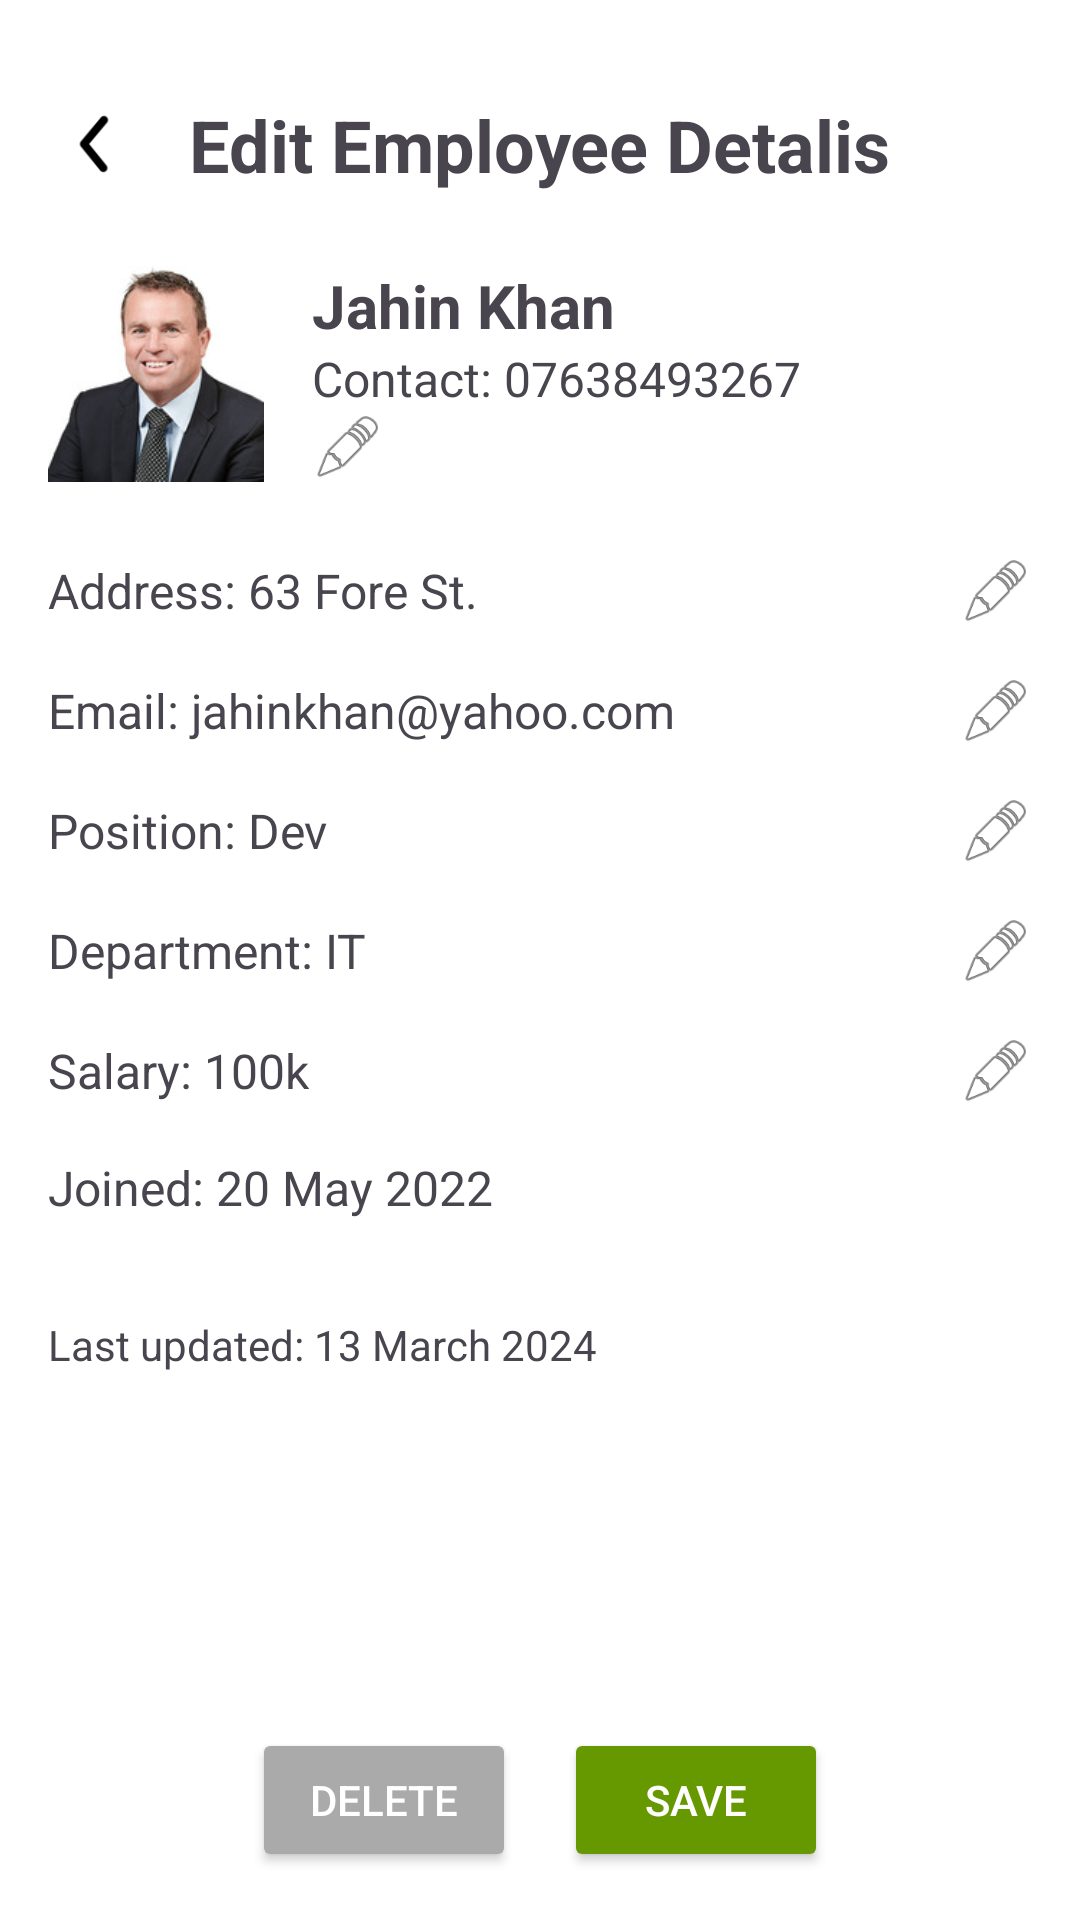

Screen size 1080×1920. Icon name, then its box in pixels as (x1, y1, x2, y2):
Back: (79, 115, 109, 173)
Edit Address: (317, 416, 378, 477), (965, 560, 1026, 621)
Edit Department: (965, 920, 1026, 981)
Edit Email: (965, 680, 1026, 741)
Edit Position: (965, 800, 1026, 861)
Edit Salary: (965, 1040, 1026, 1101)
